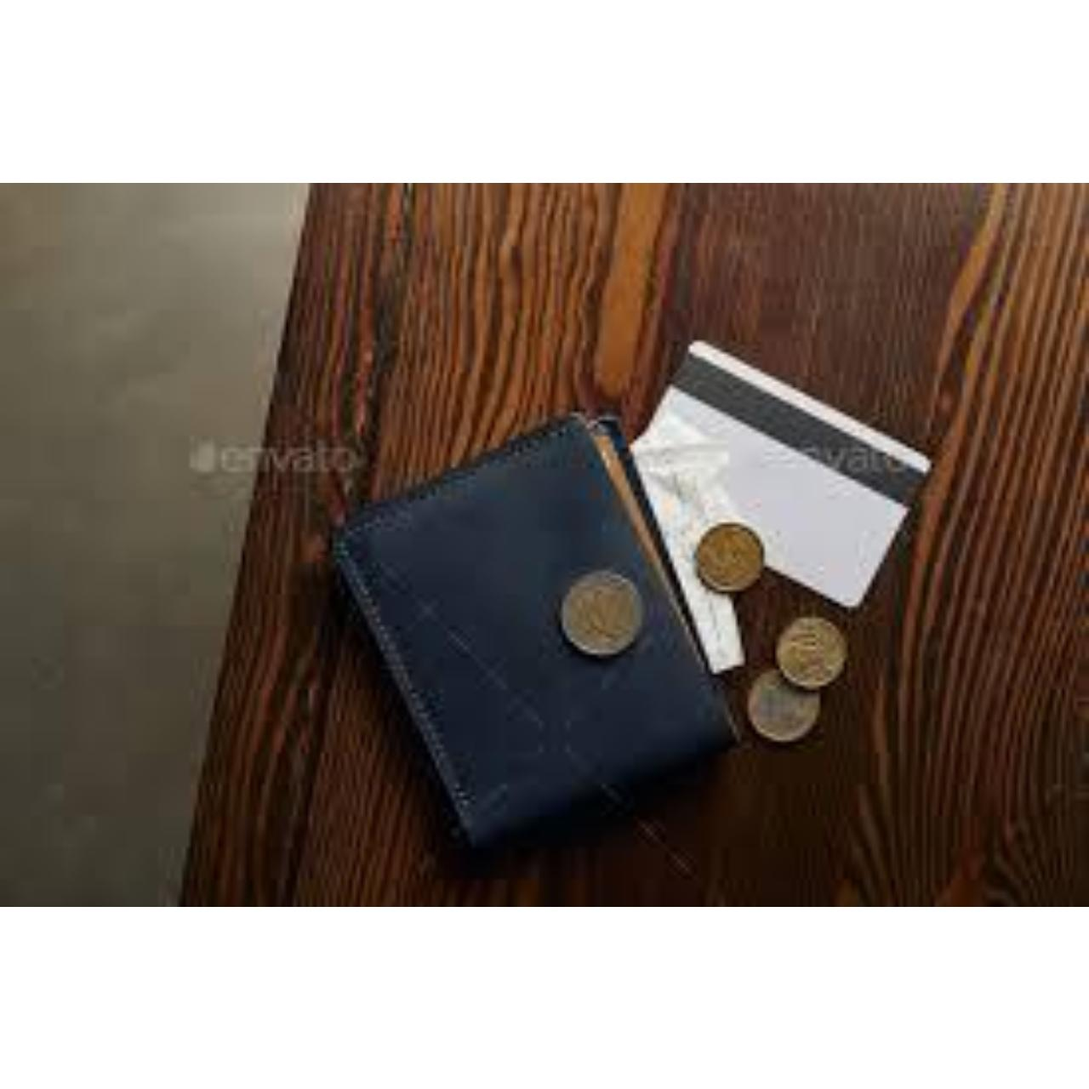wallet: (303, 398, 766, 837)
